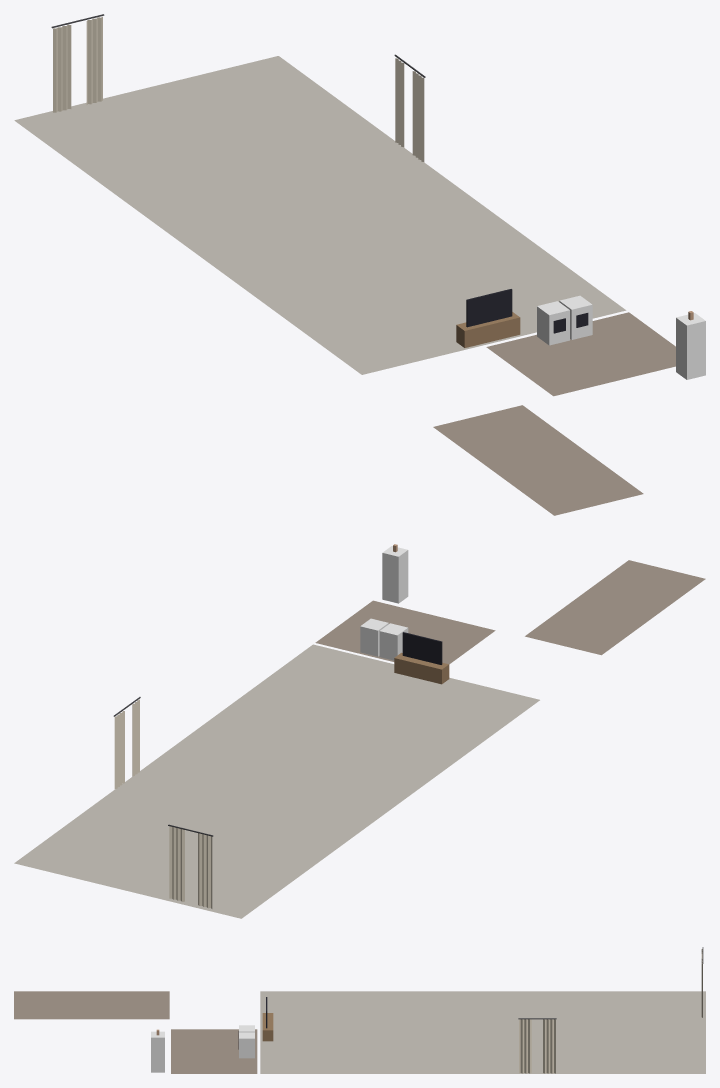
Rendered from fine-s0.glb.
3 views of the same model, one above another, from view 1: azimuth 30°, elevation 25°; view 2: azimuth 150°, elevation 25°; view 3: azimuth 270°, elevation 25° (orthographic). The views are drawn at different scales.
Visible parts, largest first — view 1: soft-s0, tv-console.000, water-heater.000, washer.000, washer.001; view 2: soft-s0, tv-console.000, water-heater.000, washer.000, washer.001; view 3: soft-s0, water-heater.000, washer.001, tv-console.000.
Boxes of the visible parts, x1,y1,x2,y2 form: soft-s0: [14, 14, 675, 515]; tv-console.000: [456, 289, 520, 347]; water-heater.000: [676, 311, 705, 379]; washer.000: [537, 301, 569, 345]; washer.001: [559, 295, 592, 339]; soft-s0: [14, 560, 705, 918]; tv-console.000: [394, 632, 449, 684]; water-heater.000: [382, 544, 408, 603]; washer.000: [379, 623, 408, 660]; washer.001: [360, 618, 388, 656]; soft-s0: [14, 947, 705, 1073]; water-heater.000: [151, 1029, 164, 1072]; washer.001: [238, 1032, 254, 1058]; tv-console.000: [262, 997, 273, 1041].
Size of the model in its own units: 7.64 by 2.4 by 26.96.
